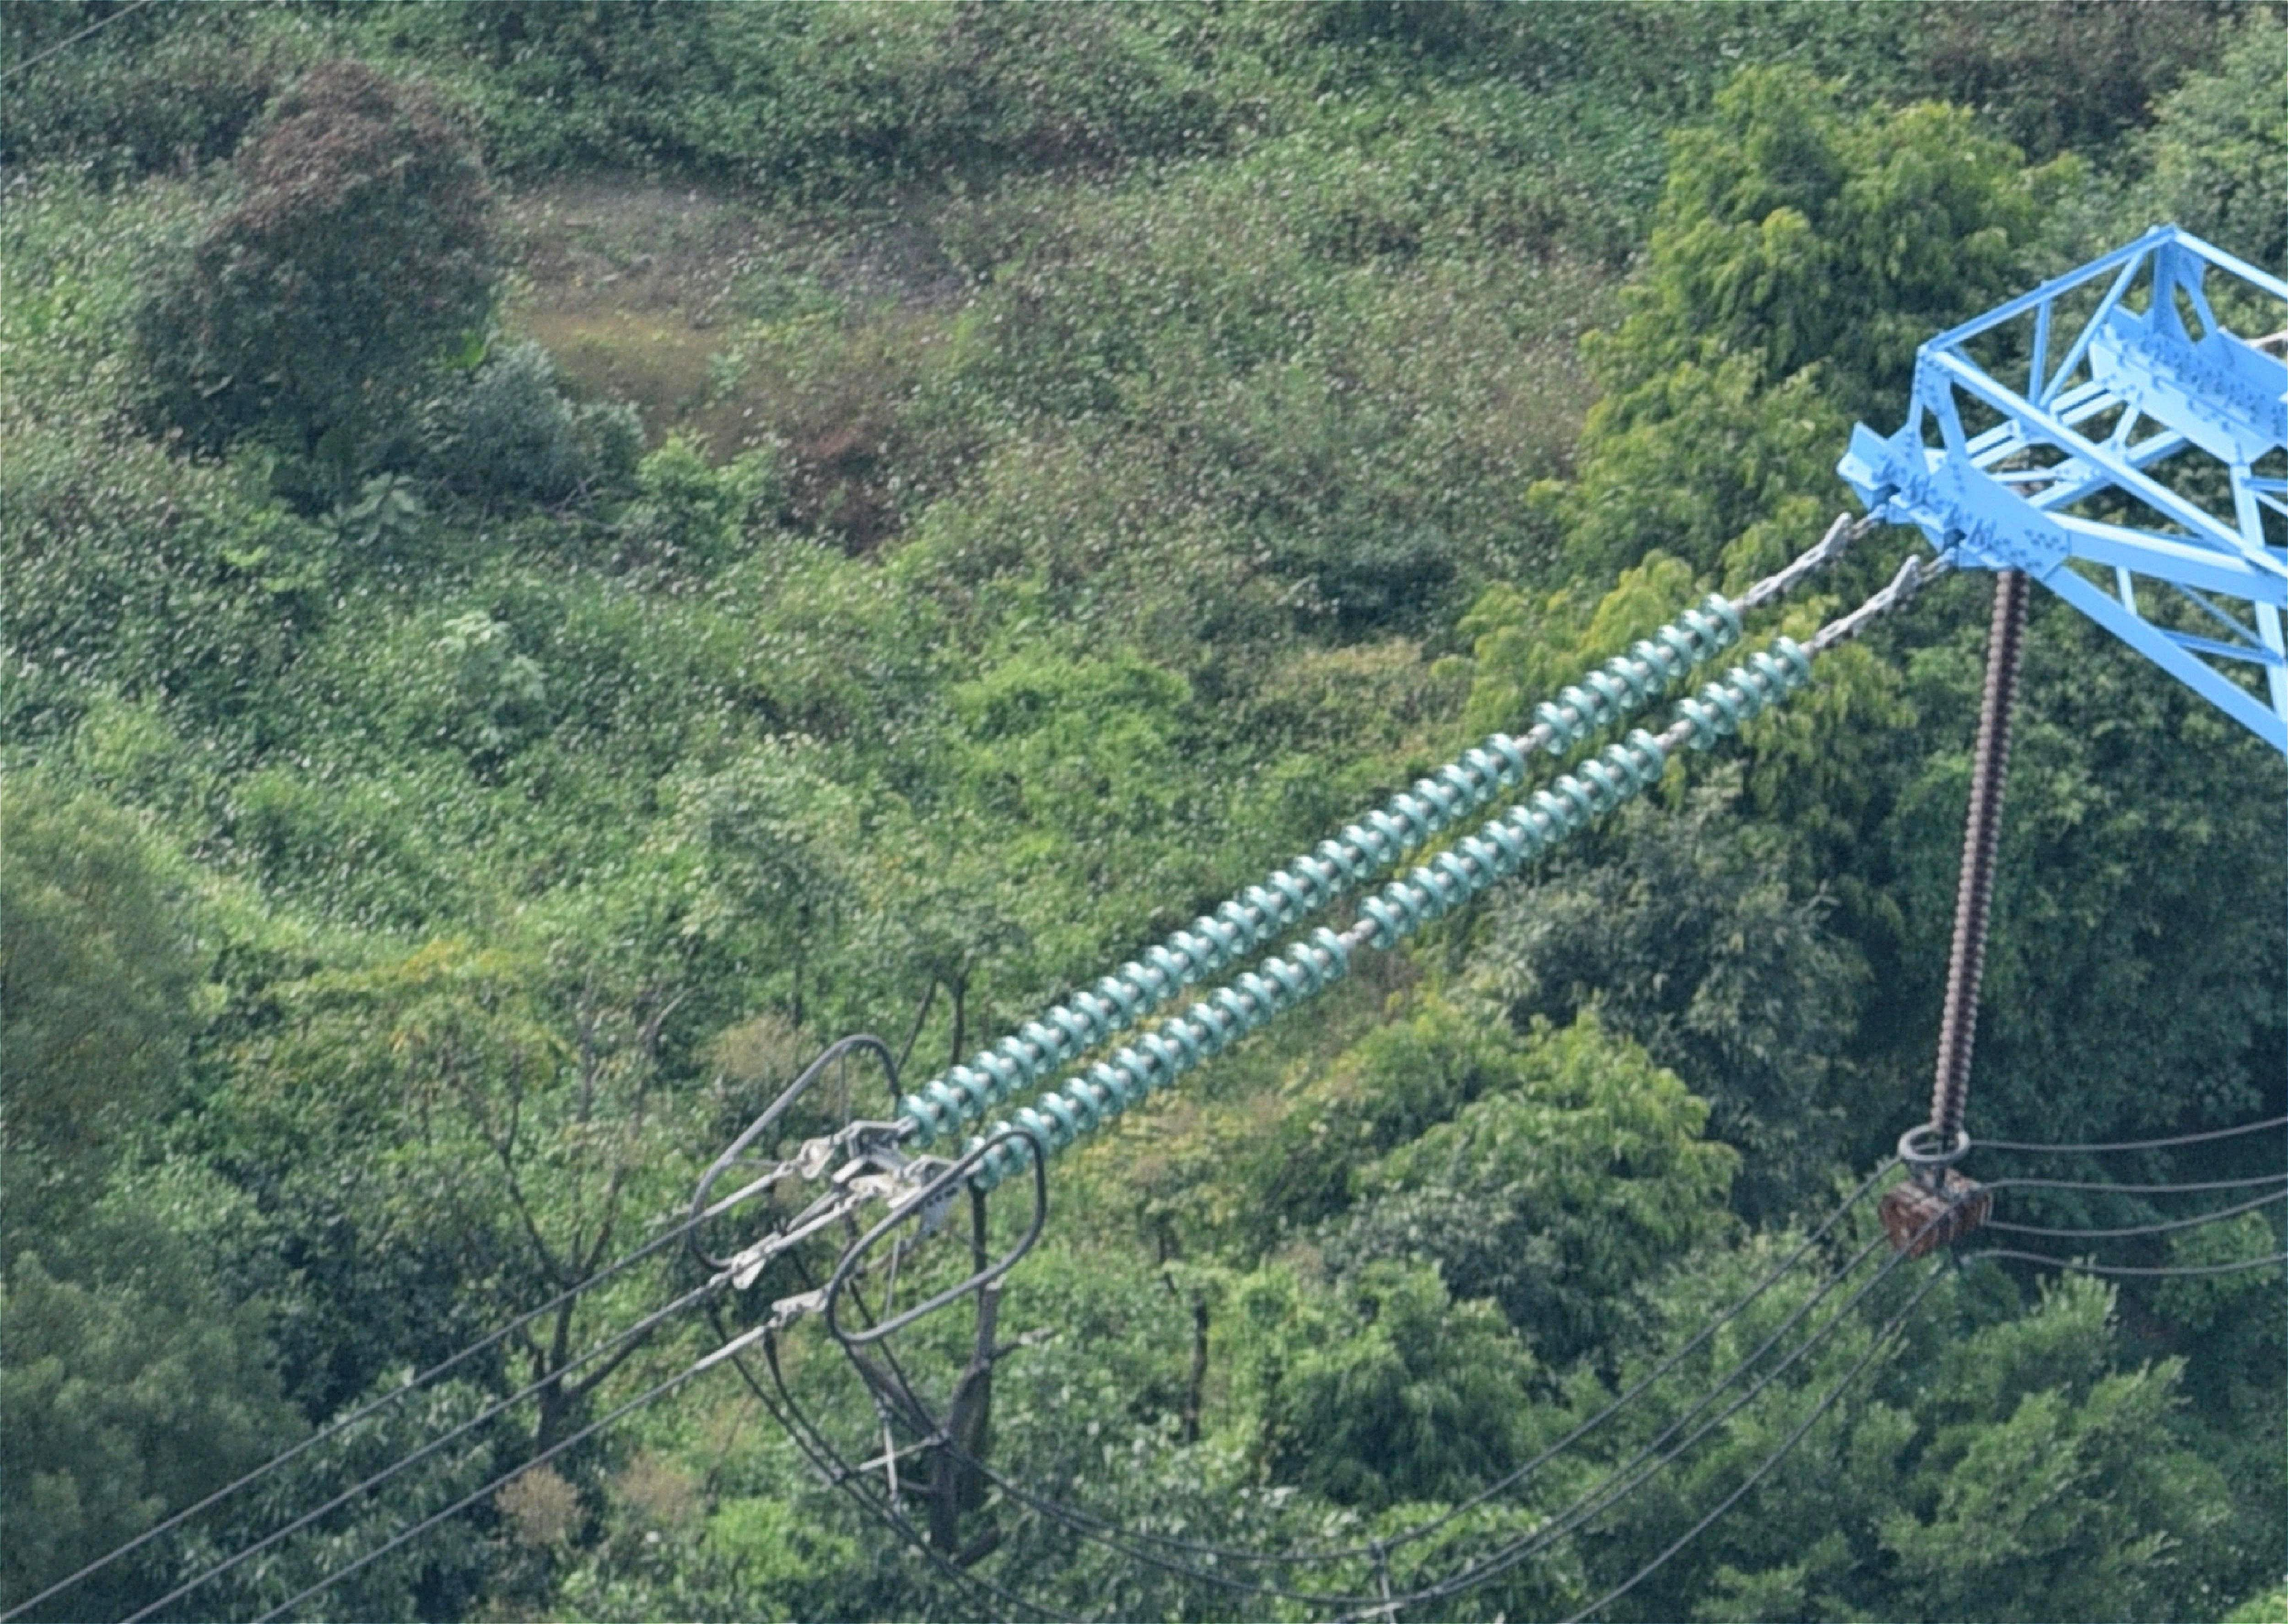insultor3: (775, 548, 1836, 1200)
